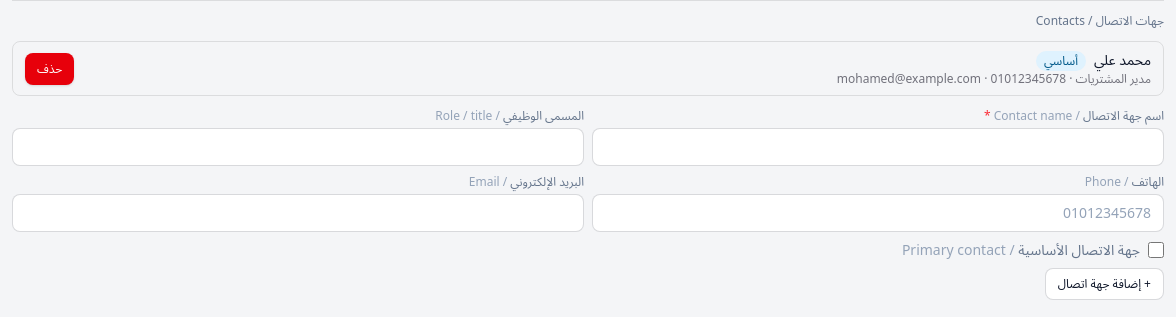
SupplierContactsSection › removes a contact when "حذف" is clicked
Expected: the text "محمد علي" is shown, top-left (1094, 50), bottom-right (1151, 69)
Click the button "حذف". click: (50, 68)
box: top-left (25, 52), bottom-right (74, 84)
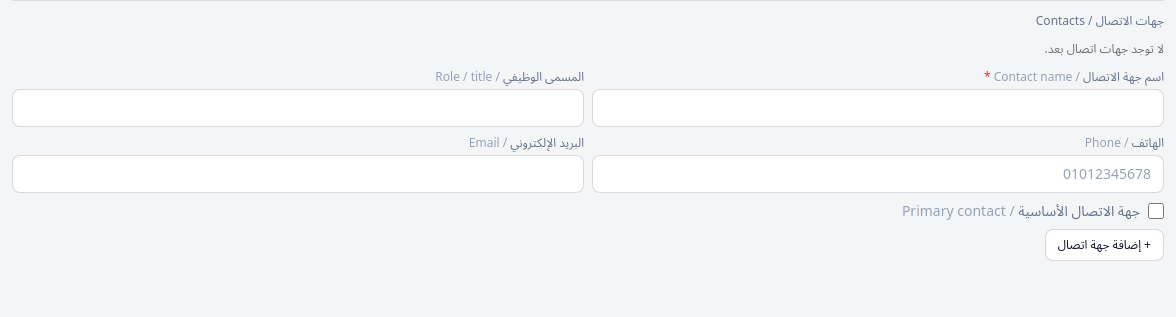
Expected: the text "لا توجد جهات اتصال بعد." is shown, top-left (1044, 40), bottom-right (1164, 57)
